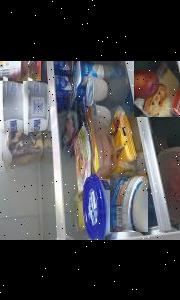Manzana: (164, 78, 180, 108)
Queso: (134, 60, 180, 116)
